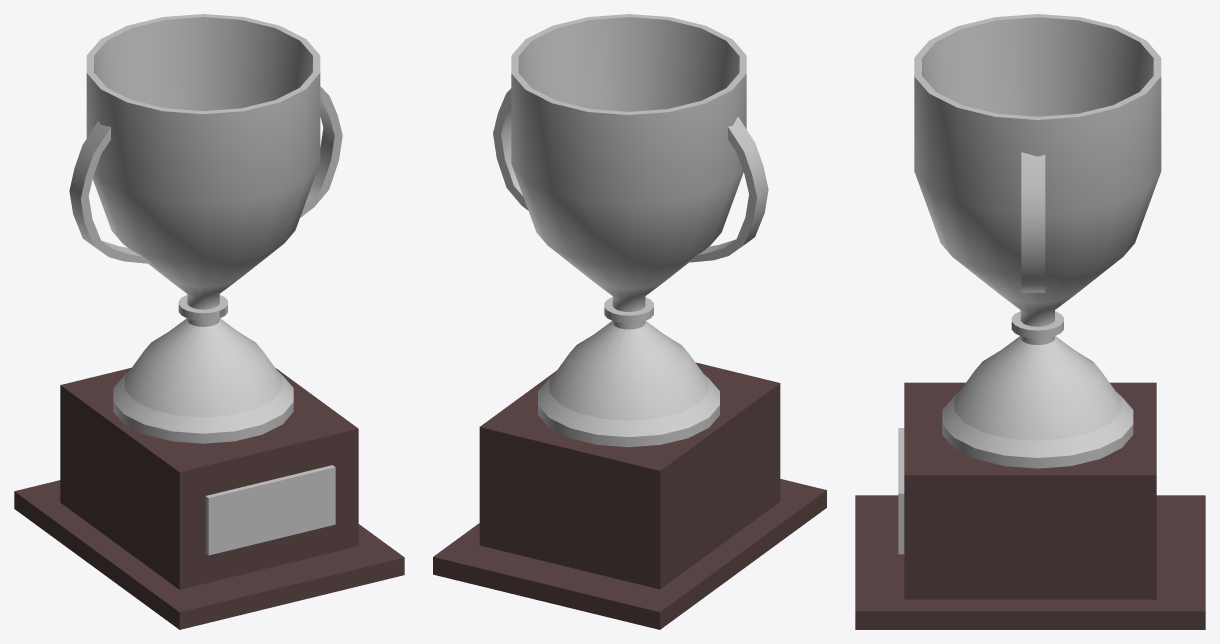
File: cup_03.FBX
3 views of the same model, side by side, from view 1: azimuth 30°, elevation 25°; view 2: azimuth 150°, elevation 25°; view 3: azimuth 270°, elevation 25° (orthographic). The views are drawn at different scales.
Visible parts, largest first — view 1: Box034; view 2: Box034; view 3: Box034.
Boxes of the visible parts, box(x1,y1,x2,y2) form: Box034: box(14, 14, 404, 629); Box034: box(433, 14, 826, 629); Box034: box(855, 14, 1205, 629).
Bounding box in the file's own units: 25.86 × 44.89 × 28.29.
